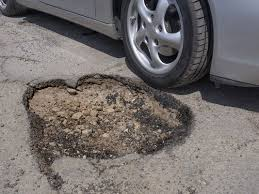pothole: (16, 64, 197, 171)
